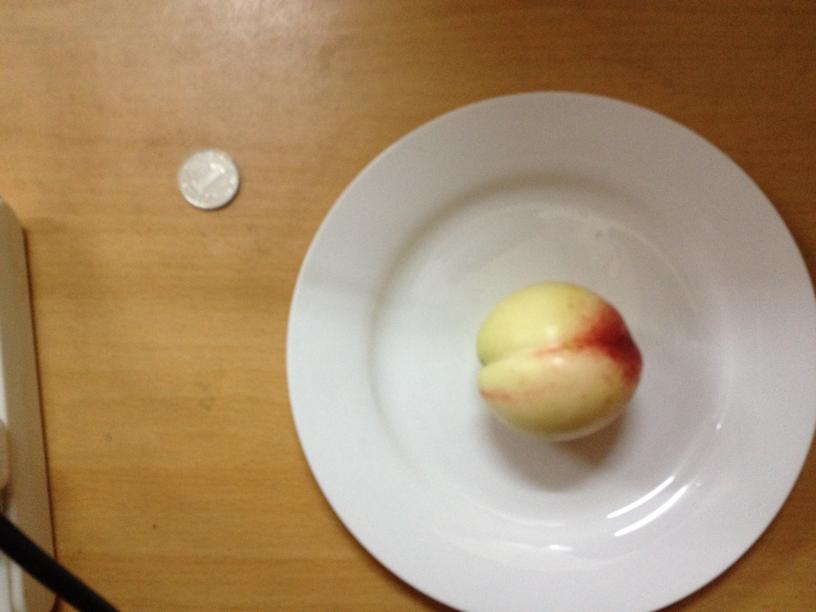coin: (177, 148, 240, 212)
peach: (474, 284, 643, 445)
